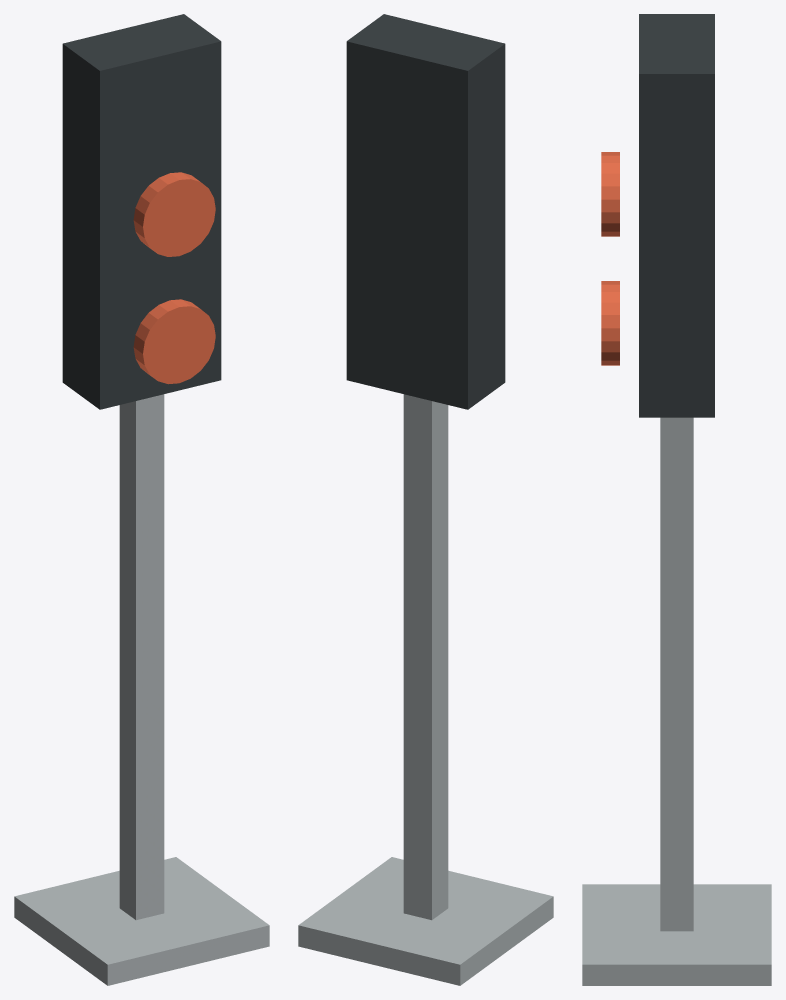
Rendered from pit-gantry-signal-lights.glb.
The picture shows the model from 3 angles, left to right: view 1: azimuth 30°, elevation 25°; view 2: azimuth 150°, elevation 25°; view 3: azimuth 270°, elevation 25°; orthographic projection.
Visible parts, largest first — view 1: pit-gantry-lights; view 2: pit-gantry-lights; view 3: pit-gantry-lights.
Boxes of the visible parts, x1,y1,x2,y2 form: pit-gantry-lights: [14, 14, 269, 985]; pit-gantry-lights: [298, 14, 553, 985]; pit-gantry-lights: [582, 14, 771, 985].
Bounding box in the file's own units: 0.3999 × 2.1 × 0.3999.
